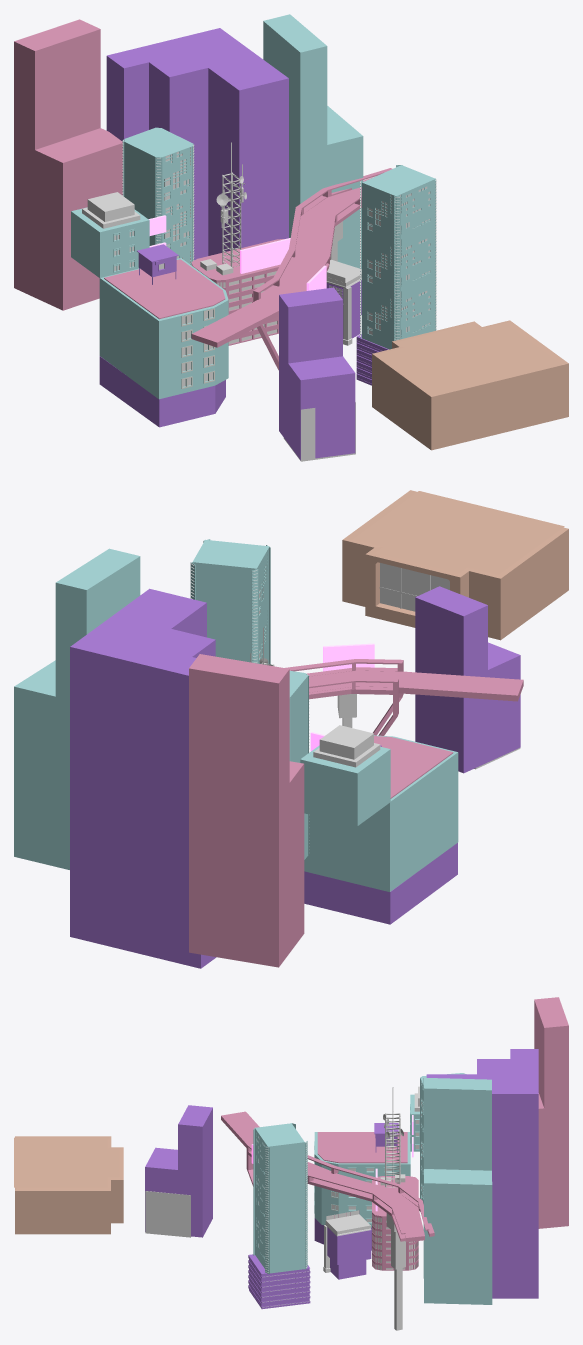
Rendered from Environment_v0.fbx.
3 views of the same model, one above another, from view 1: azimuth 30°, elevation 25°; view 2: azimuth 150°, elevation 25°; view 3: azimuth 270°, elevation 25° (orthographic). The views are drawn at different scales.
Parts seen in each view (by area): view 1: Building.04, Building.006, Walls, Building.007, Cube.011, Building.005, Cube.016, Roof, Cube.010, Tube.01, Cube.017, Cube.018 (+12 smaller); view 2: Building.04, Building.006, Building.007, Building.005, Cube.016, Walls, Roof, Cube.011, Cube.018, Building.02, Tube.01, Tube.002 (+6 smaller); view 3: Building.007, Building.04, Building.006, Cube.011, Walls, Building.005, Roof, Cube.016, Tube.01, Tube.002, Cube.017, Cube.009 (+10 smaller).
Part boxes in pixels (x1=…): Building.04: x1=106, y1=28, x2=288, y2=260; Building.006: x1=14, y1=19, x2=122, y2=310; Walls: x1=372, y1=320, x2=568, y2=450; Building.007: x1=263, y1=14, x2=363, y2=268; Cube.011: x1=362, y1=165, x2=435, y2=349; Building.005: x1=279, y1=287, x2=355, y2=460; Cube.016: x1=99, y1=258, x2=228, y2=399; Roof: x1=379, y1=323, x2=562, y2=395; Cube.010: x1=124, y1=128, x2=192, y2=265; Tube.01: x1=191, y1=187, x2=361, y2=347; Cube.017: x1=104, y1=259, x2=225, y2=319; Cube.018: x1=71, y1=207, x2=149, y2=277; Building.04: x1=70, y1=588, x2=216, y2=968; Building.006: x1=189, y1=654, x2=304, y2=967; Building.007: x1=14, y1=548, x2=140, y2=869; Building.005: x1=415, y1=586, x2=520, y2=773; Cube.016: x1=304, y1=735, x2=458, y2=891; Walls: x1=342, y1=490, x2=568, y2=640; Roof: x1=353, y1=491, x2=564, y2=574; Cube.011: x1=192, y1=539, x2=269, y2=663; Cube.018: x1=300, y1=745, x2=390, y2=826; Building.02: x1=304, y1=843, x2=457, y2=924; Tube.01: x1=309, y1=670, x2=523, y2=701; Tube.002: x1=285, y1=659, x2=403, y2=735; Building.007: x1=423, y1=1077, x2=492, y2=1304; Building.04: x1=426, y1=1049, x2=538, y2=1298; Building.006: x1=534, y1=997, x2=568, y2=1228; Cube.011: x1=255, y1=1123, x2=304, y2=1273; Walls: x1=15, y1=1136, x2=123, y2=1234; Building.005: x1=145, y1=1105, x2=212, y2=1237; Roof: x1=14, y1=1137, x2=119, y2=1187; Cube.016: x1=314, y1=1132, x2=410, y2=1227; Tube.01: x1=221, y1=1111, x2=424, y2=1242; Tube.002: x1=246, y1=1144, x2=434, y2=1241; Cube.017: x1=317, y1=1132, x2=407, y2=1163; Cube.009: x1=248, y1=1254, x2=310, y2=1309.
Size of the model in its own units: 1296 by 1166 by 2377.
